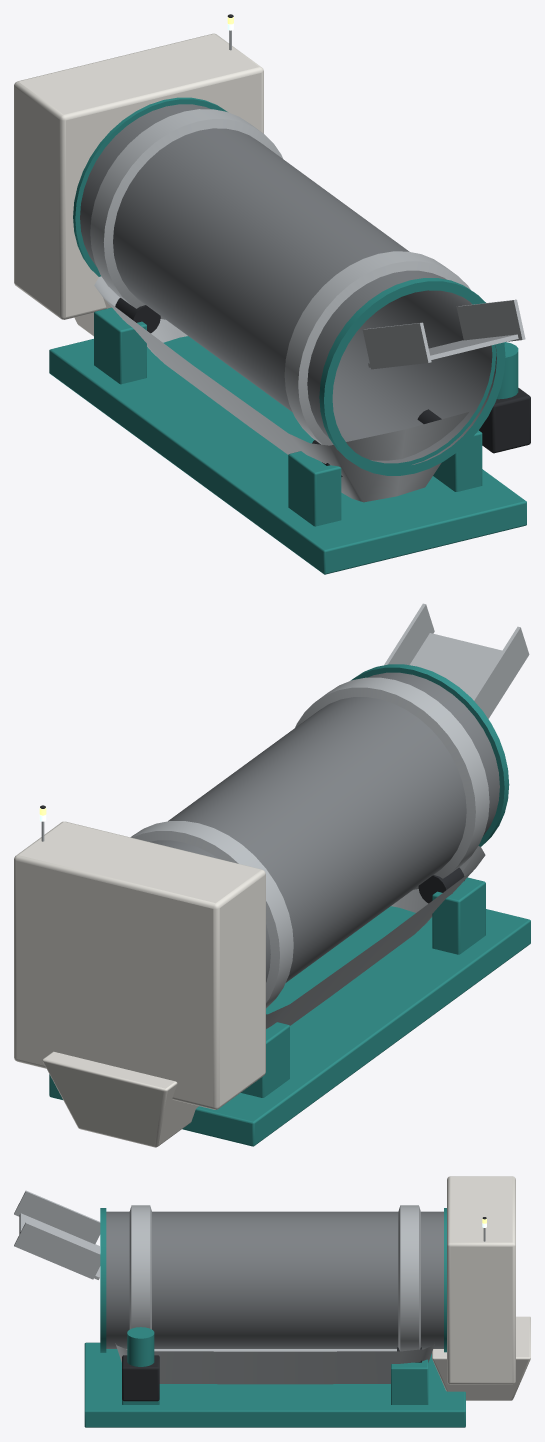
Rendered from trommel.fbx.
The picture shows the model from 3 angles, top to bottom: view 1: azimuth 30°, elevation 25°; view 2: azimuth 150°, elevation 25°; view 3: azimuth 270°, elevation 25°; orthographic projection. The views are drawn at different scales.
Visible parts, largest first — view 1: trommel; view 2: trommel; view 3: trommel.
Part boxes in pixels (x1,y1,x2,y2): trommel: (14,14,530,574); trommel: (14,603,530,1147); trommel: (14,1176,530,1427).
Bounding box in the file's own units: 3 × 3.68 × 8.27.
